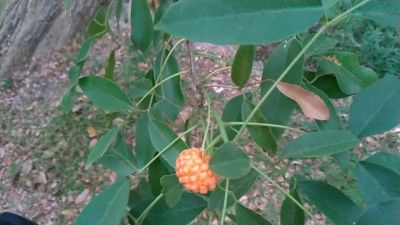eggs: (174, 146, 222, 197)
